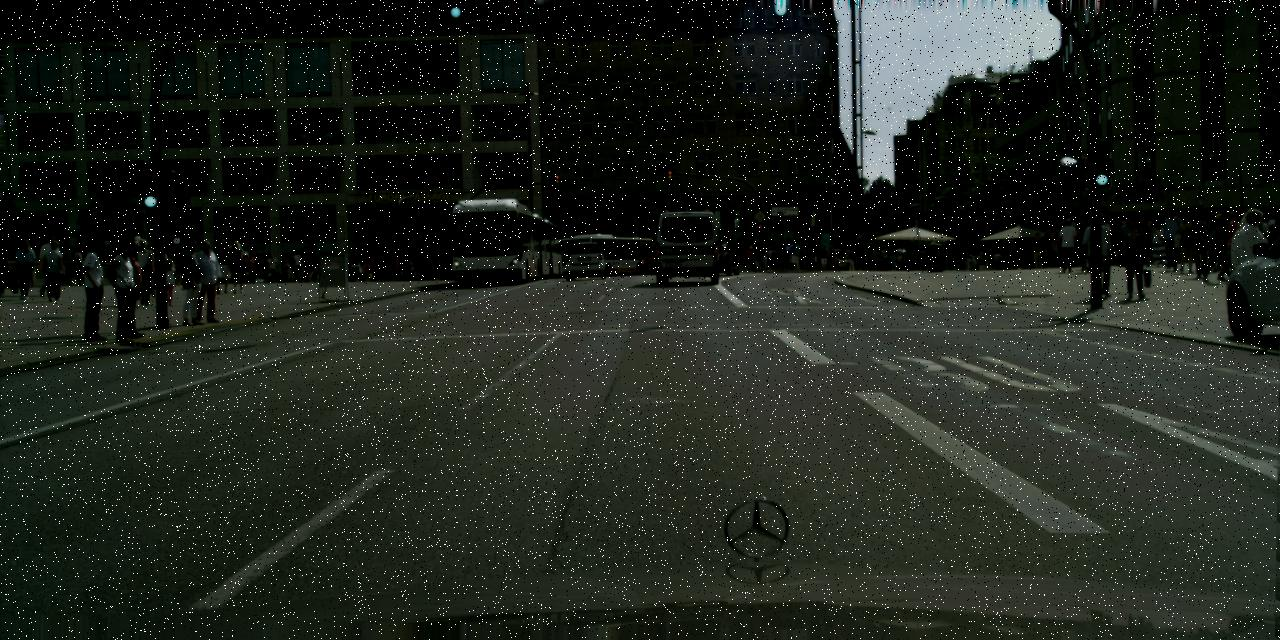ped: (105, 239, 147, 342), (72, 238, 114, 341), (1232, 208, 1273, 310), (113, 238, 153, 337), (1224, 210, 1262, 304), (174, 237, 210, 324), (188, 240, 221, 322), (1083, 215, 1116, 294), (1118, 222, 1148, 298), (1206, 212, 1234, 282), (1222, 211, 1249, 276), (131, 239, 157, 305), (1188, 213, 1213, 276), (37, 234, 62, 296), (1197, 211, 1222, 272), (1219, 210, 1244, 271), (12, 239, 37, 299), (1158, 209, 1182, 269), (1176, 214, 1200, 274), (42, 240, 66, 300), (1074, 212, 1098, 270), (1056, 218, 1078, 272), (1091, 214, 1113, 268), (211, 238, 233, 292), (226, 240, 248, 292), (1210, 217, 1230, 271), (1254, 213, 1274, 262), (1150, 218, 1170, 266), (1118, 218, 1136, 264), (113, 238, 131, 283), (1113, 220, 1131, 264), (1054, 223, 1072, 266), (1142, 220, 1159, 265), (159, 258, 176, 302), (1266, 213, 1279, 264), (155, 244, 171, 285), (71, 245, 86, 284), (1134, 225, 1149, 262), (844, 244, 866, 269), (1040, 229, 1054, 267), (301, 244, 315, 282), (1030, 232, 1044, 268), (0, 248, 10, 294), (347, 248, 360, 281), (378, 248, 391, 280), (176, 250, 188, 283), (1051, 230, 1061, 269), (290, 250, 302, 281), (266, 252, 278, 282), (245, 252, 257, 282), (805, 241, 816, 271), (790, 240, 800, 268), (887, 243, 897, 268), (746, 245, 756, 270), (799, 244, 809, 268), (772, 245, 782, 269), (281, 258, 291, 281), (827, 244, 836, 268), (754, 250, 764, 270), (756, 244, 765, 266), (392, 258, 401, 280), (362, 260, 371, 280), (403, 258, 411, 280), (375, 259, 383, 280), (386, 260, 394, 281), (1074, 237, 1080, 265), (764, 246, 772, 266), (434, 260, 441, 280), (398, 261, 405, 278), (443, 262, 450, 278), (424, 267, 430, 279), (413, 268, 418, 280), (760, 255, 764, 269), (1075, 220, 1081, 229), (302, 267, 306, 279), (371, 272, 377, 280), (418, 269, 422, 279), (349, 269, 352, 281), (359, 275, 363, 281), (353, 278, 354, 281), (384, 280, 384, 281)
